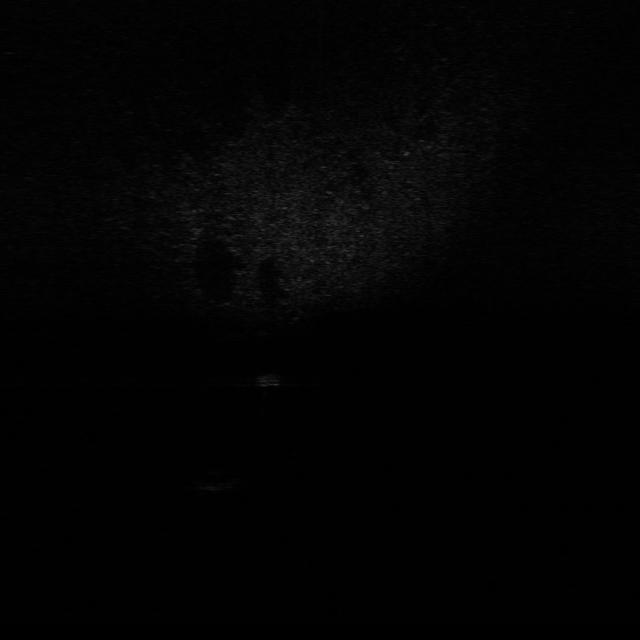ball: (190, 467, 240, 492)
cube: (253, 370, 286, 389)
